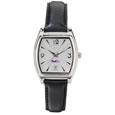pen: (35, 27, 81, 81)
